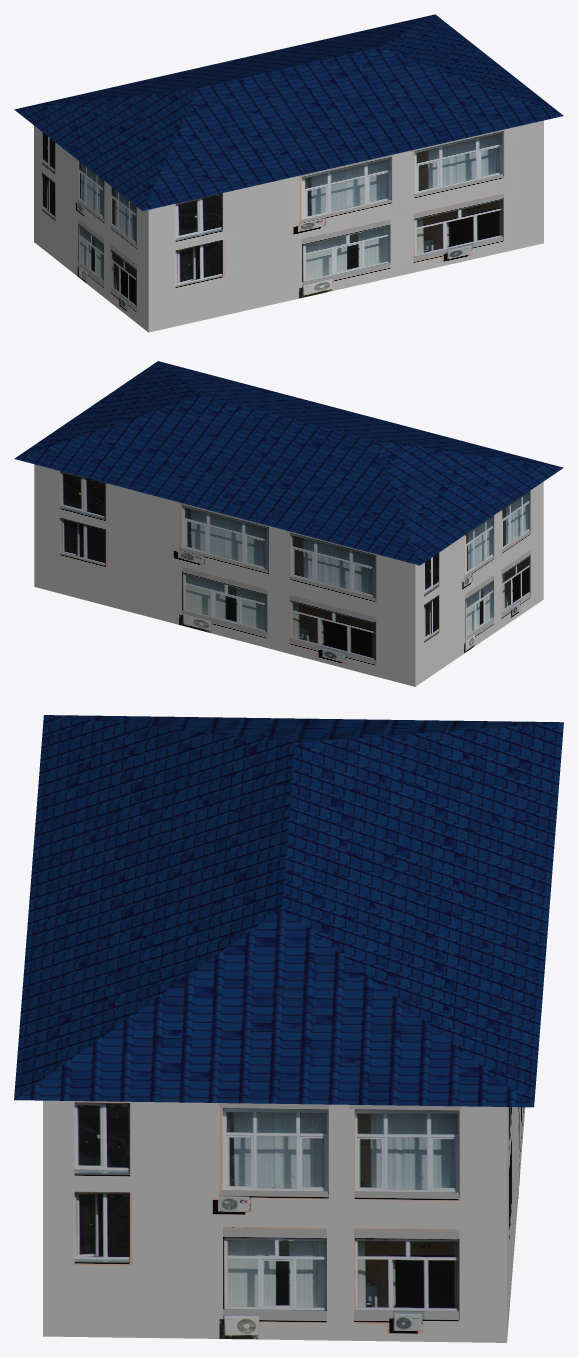
3 renders of one model, top to bottom at view 1: azimuth 30°, elevation 25°; view 2: azimuth 150°, elevation 25°; view 3: azimuth 270°, elevation 25°, orthographic. The views are drawn at different scales.
Parts seen in each view (by area): view 1: CityEngineMaterial_9_m, CityEngineMaterial_6_m; view 2: CityEngineMaterial_9_m, CityEngineMaterial_6_m; view 3: CityEngineMaterial_6_m, CityEngineMaterial_9_m.
Part boxes in pixels (box(x1,y1,x2,y2)): CityEngineMaterial_9_m: box(34, 120, 543, 332); CityEngineMaterial_6_m: box(14, 14, 563, 210); CityEngineMaterial_9_m: box(34, 464, 543, 686); CityEngineMaterial_6_m: box(14, 361, 563, 565); CityEngineMaterial_6_m: box(14, 715, 563, 1107); CityEngineMaterial_9_m: box(43, 1100, 525, 1342).
Size of the model in its own units: 31.14 by 12.34 by 18.44.
